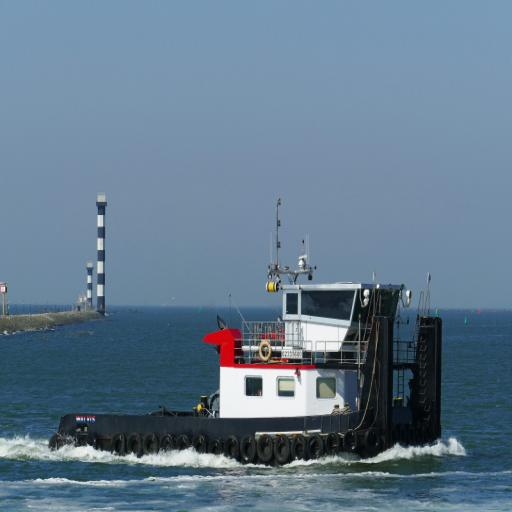tugboat: (46, 195, 445, 476)
